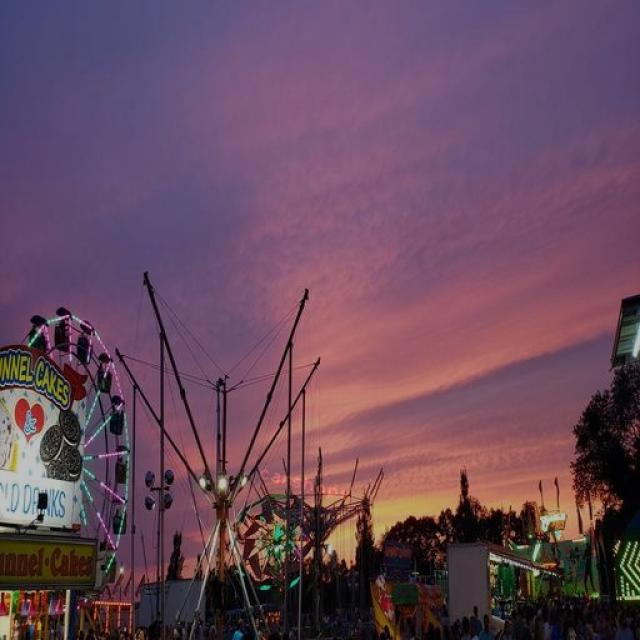watermark: (251, 464, 361, 503)
